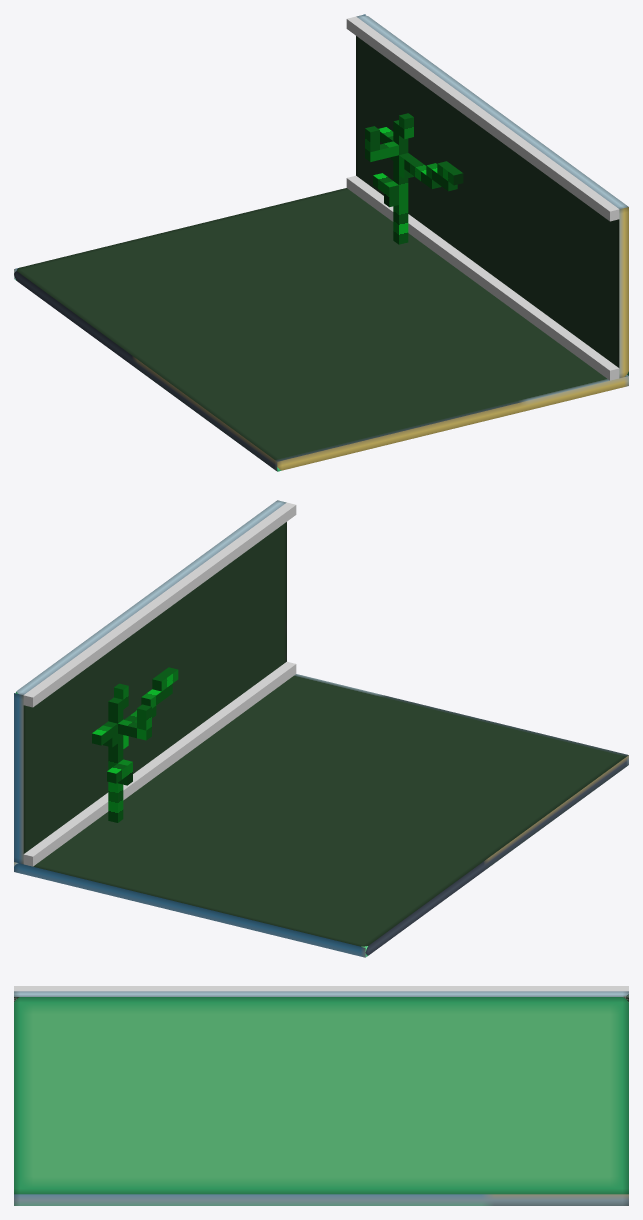
File: bacgroundfarm.fbx
3 renders of one model, top to bottom at view 1: azimuth 30°, elevation 25°; view 2: azimuth 150°, elevation 25°; view 3: azimuth 270°, elevation 25°, orthographic. The views are drawn at different scales.
Parts seen in each view (by area): view 1: cube_4, cube_1, cube_3, cube_2, cube; view 2: cube_4, cube_1, cube_3, cube_2, cube; view 3: cube_1, cube_4, cube_3.
Boxes of the visible parts, x1,y1,x2,y2 form: cube_4: (14,188,628,471); cube_1: (356,14,628,378); cube_3: (346,16,619,221); cube_2: (346,175,619,380); cube: (365,113,463,244); cube_4: (14,674,628,957); cube_1: (14,500,286,864); cube_3: (23,502,296,707); cube_2: (23,661,296,866); cube: (92,667,178,822); cube_1: (14,991,628,1194); cube_4: (14,1194,628,1205); cube_3: (14,986,628,1001).
Size of the model in its own units: 231 by 112 by 300.
3 materials, 3 textured.
